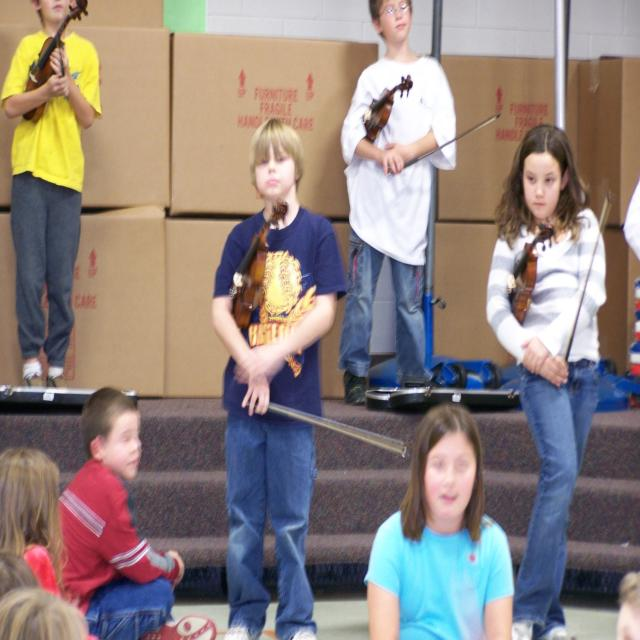violin: (17, 0, 88, 119), (227, 198, 291, 326), (502, 220, 557, 322), (355, 76, 414, 145)
